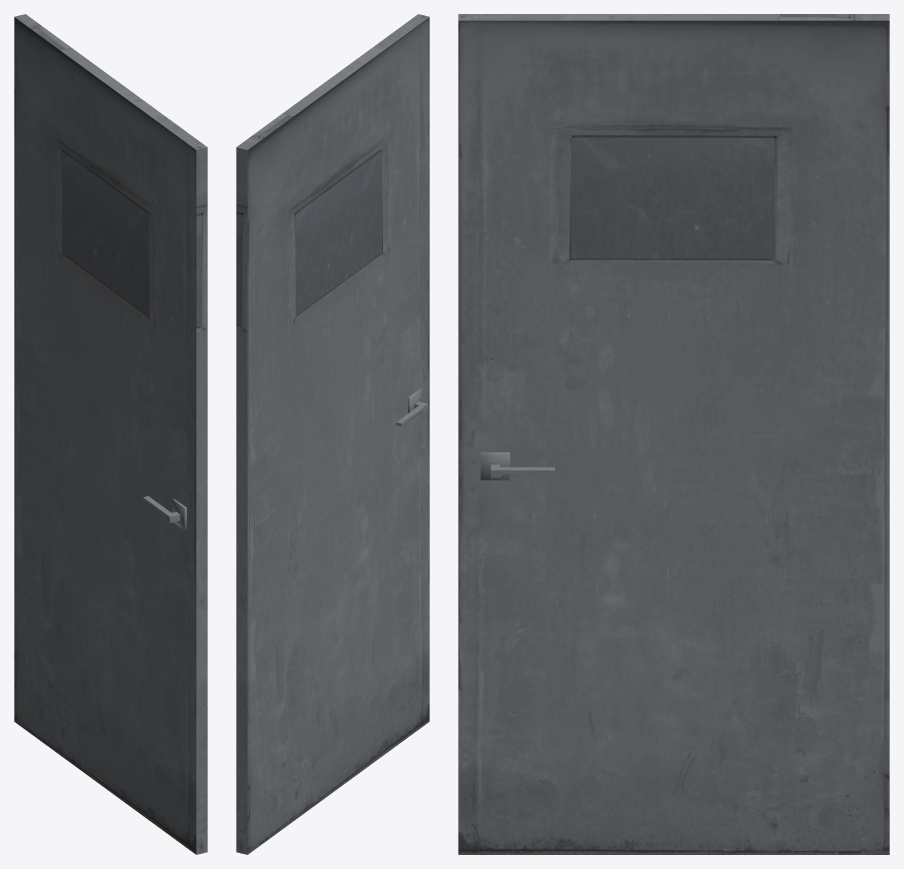
Rendered from CargoHouse06door.FBX.
3 renders of one model, left to right at view 1: azimuth 30°, elevation 25°; view 2: azimuth 150°, elevation 25°; view 3: azimuth 270°, elevation 25°, orthographic. The views are drawn at different scales.
Parts seen in each view (by area): view 1: CargoHouse06door; view 2: CargoHouse06door; view 3: CargoHouse06door.
Part boxes in pixels (<box>): CargoHouse06door: <box>14,14,207,854</box>; CargoHouse06door: <box>236,14,429,854</box>; CargoHouse06door: <box>458,14,889,854</box>.
Size of the model in its own units: 5.03 by 93.11 by 43.62.
